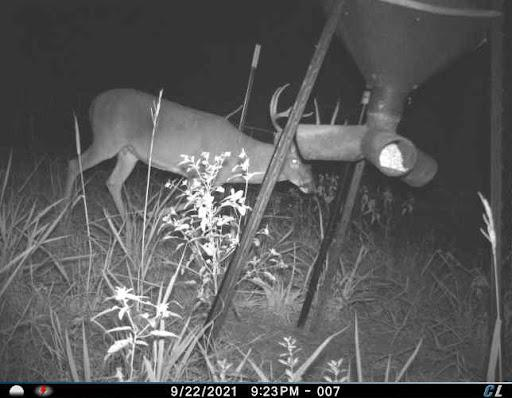Deer: (62, 74, 348, 269)
